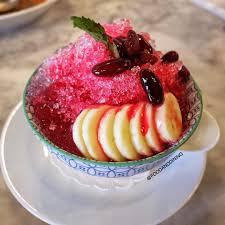O-eo: (23, 15, 207, 188)
